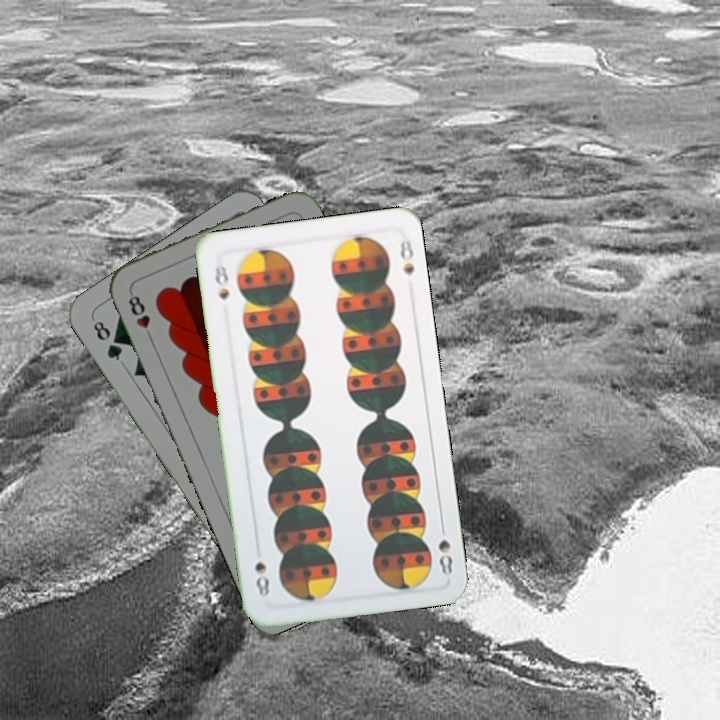G8: (89, 316, 126, 364)
H8: (124, 288, 156, 344)
S8: (434, 519, 455, 578), (211, 259, 232, 303)
